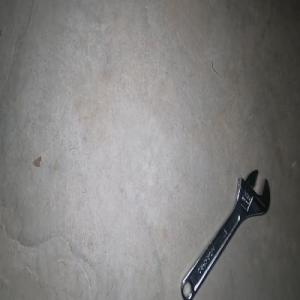Wrench: (180, 169, 269, 300)
